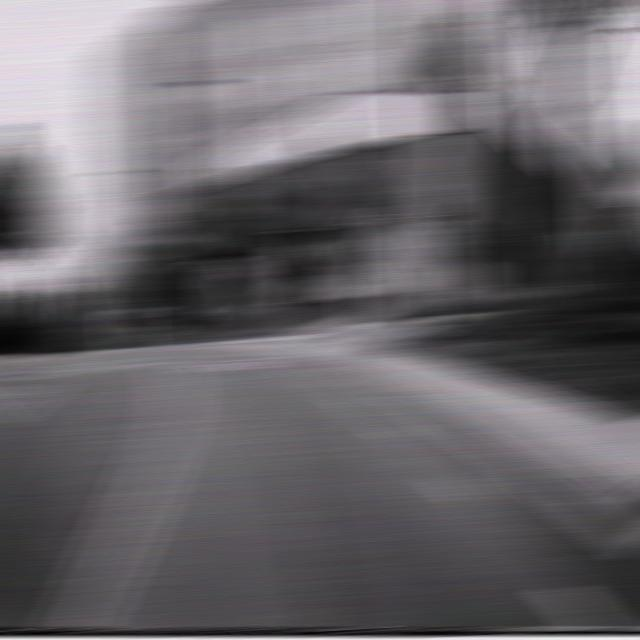stop_sign: (372, 204, 416, 251)
